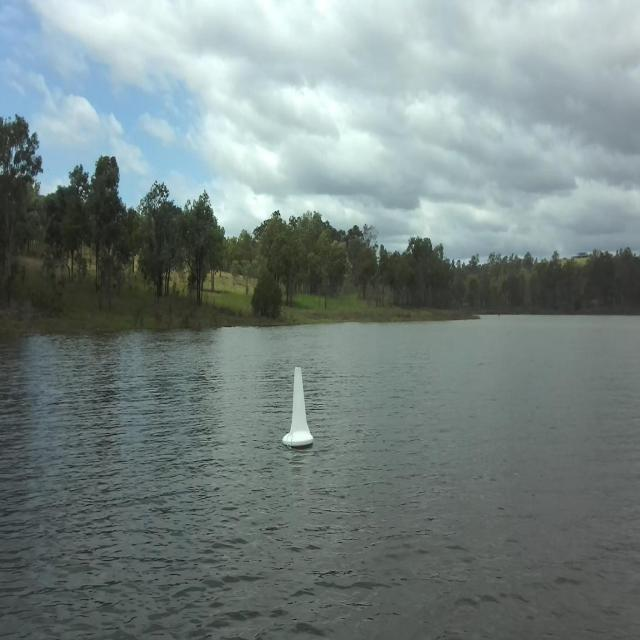White_Buoy: (280, 368, 316, 447)
